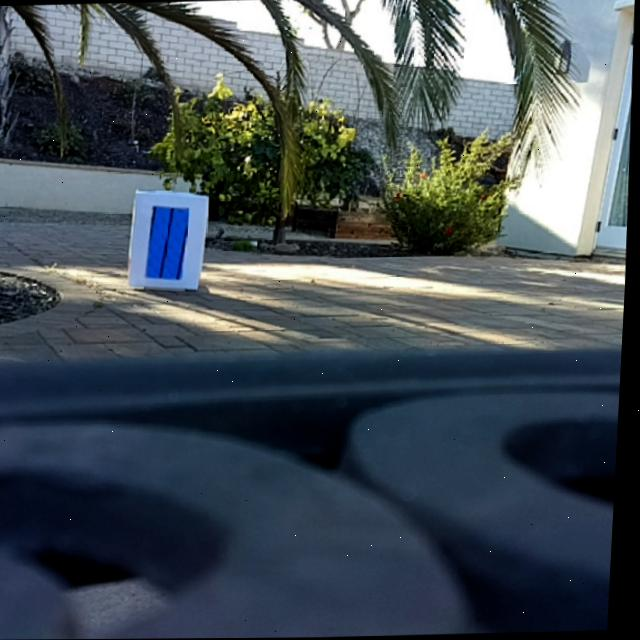led: (147, 204, 189, 281)
